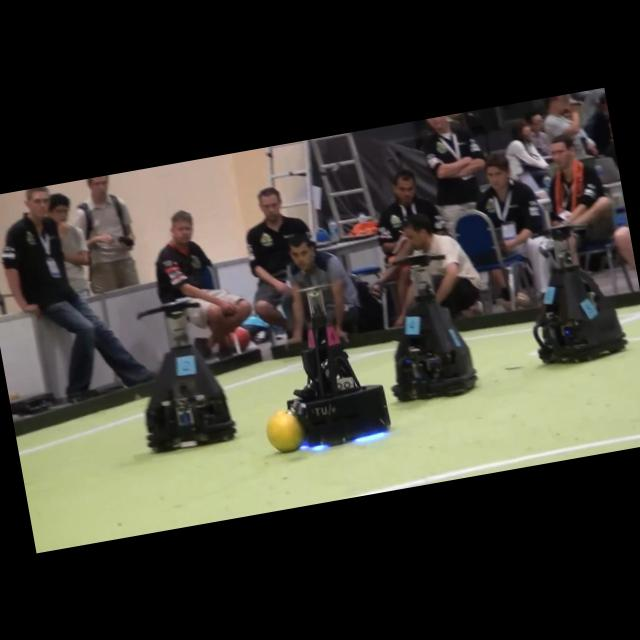ball: (266, 409, 304, 451)
robot: (287, 285, 390, 445), (138, 301, 235, 452), (532, 225, 627, 363), (392, 253, 476, 401)
